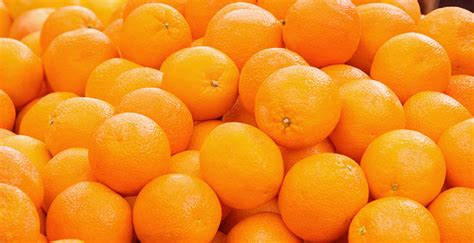orange: (278, 148, 372, 238), (200, 121, 286, 207), (254, 65, 345, 145), (361, 129, 448, 208), (92, 111, 175, 189), (133, 173, 224, 243), (159, 40, 238, 113), (44, 180, 131, 243), (374, 31, 453, 97), (280, 1, 360, 65), (117, 1, 192, 67), (41, 24, 113, 91)
